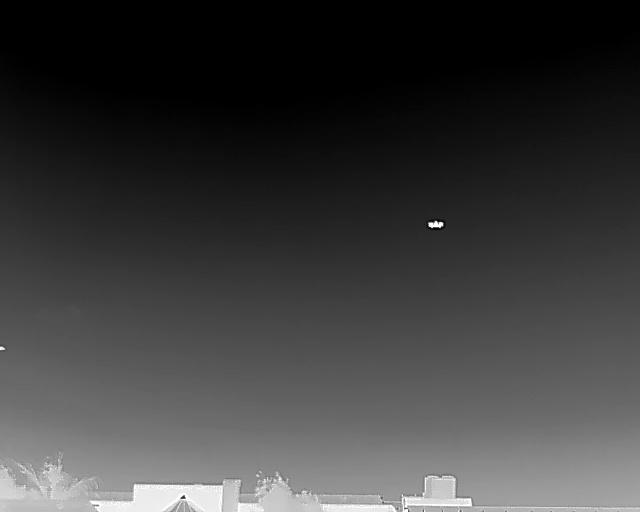fpv-drone: (426, 219, 444, 230)
